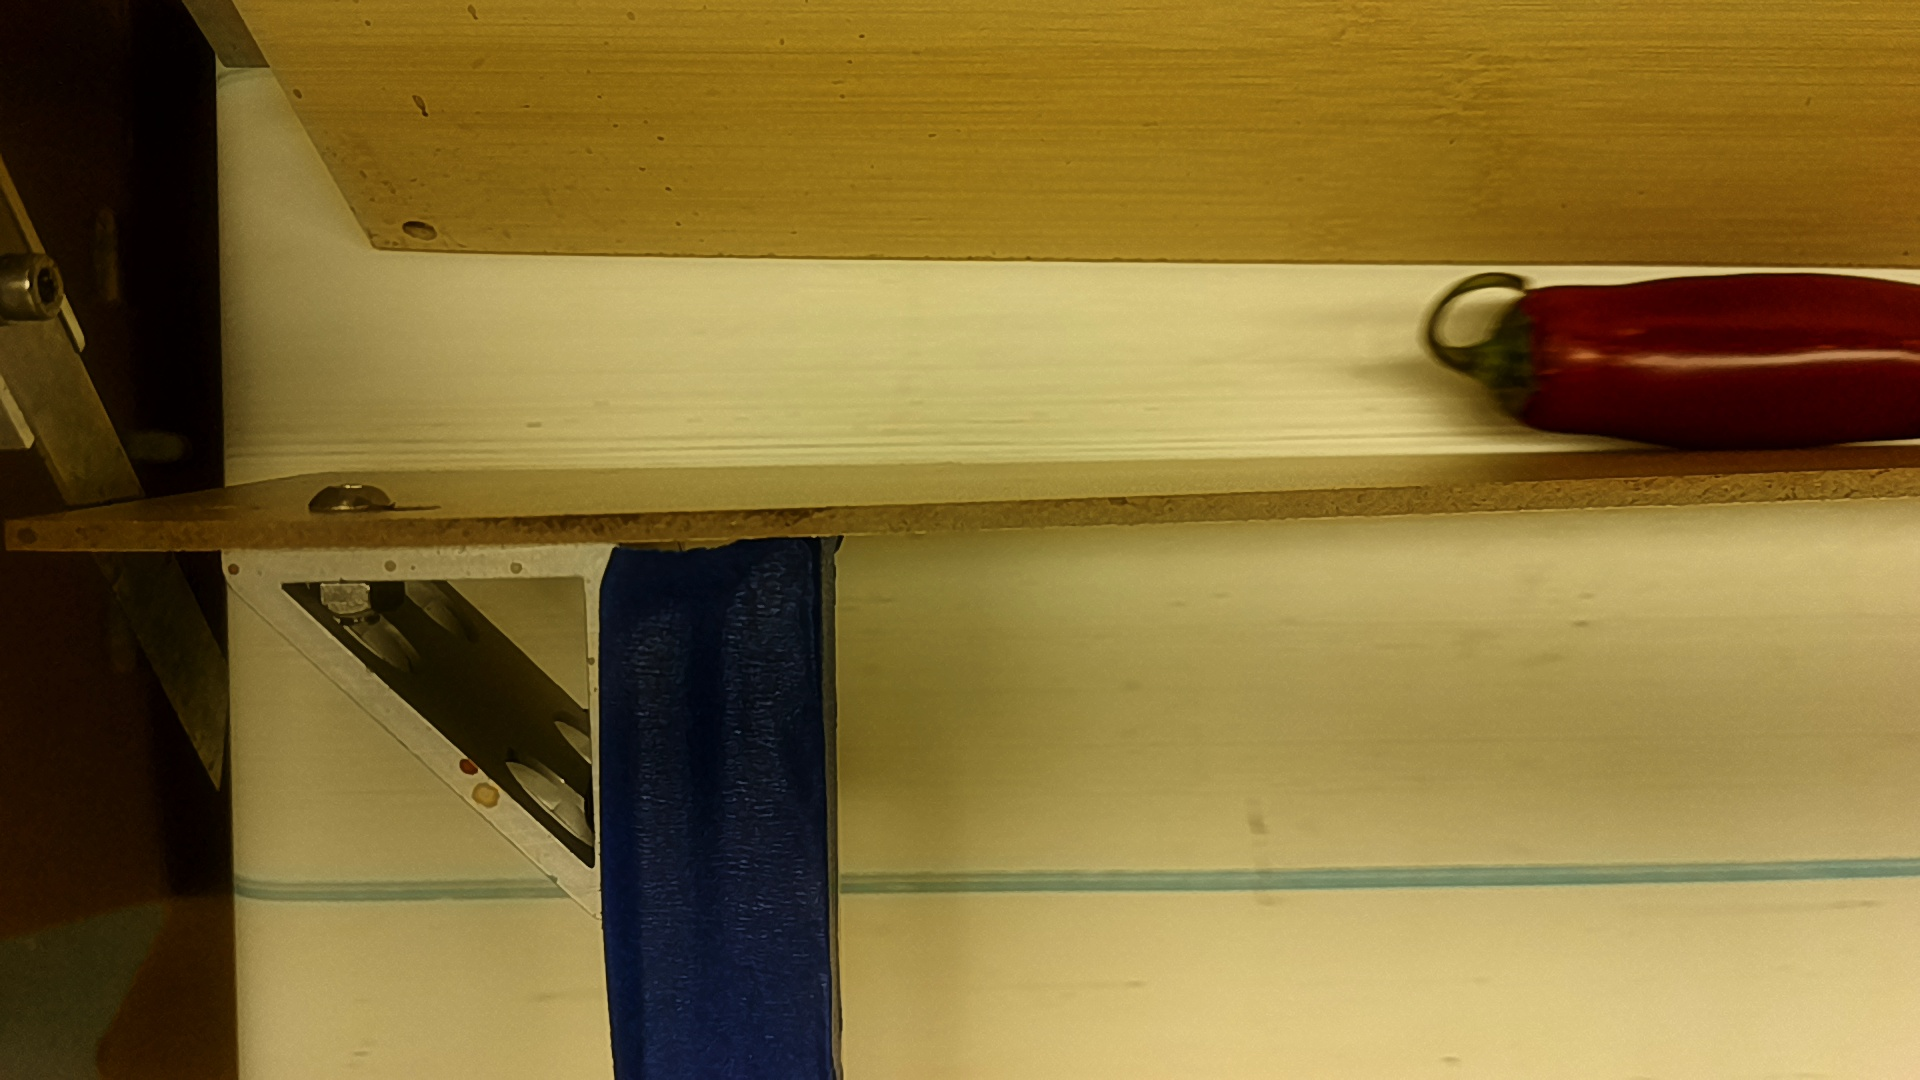Cut Point: (1484, 274, 1561, 440)
